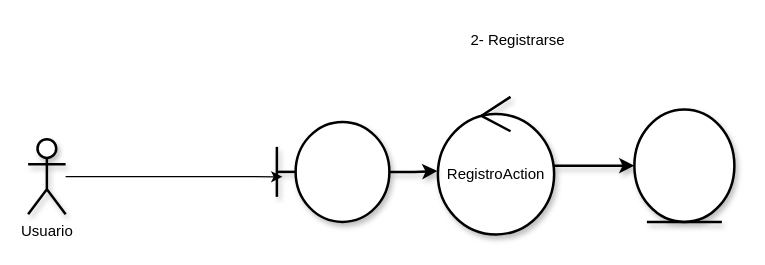
Image size: 765x265. Some labels were removed from this diagram. The shapes that lost their labels are listed below. From the top down, each one's centre as x and y in pixels, then its label:
(x=334, y=173): RegistroUI
(x=685, y=166): UsuarioEntity2
